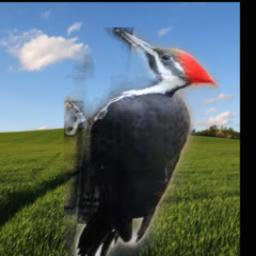Woodpecker: (64, 27, 220, 256)
